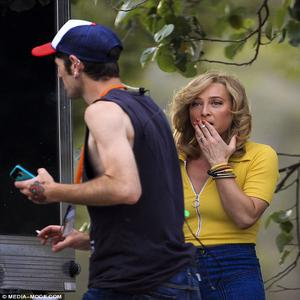cigarette: (198, 120, 208, 132)
